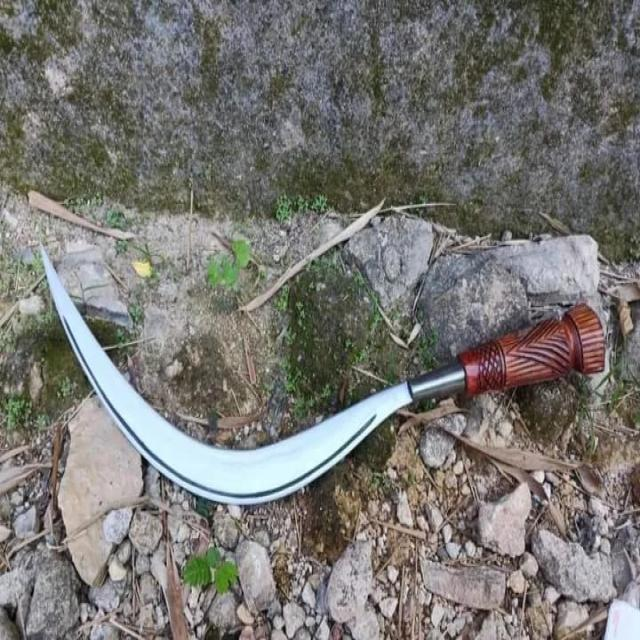Celurit: (41, 241, 607, 510)
